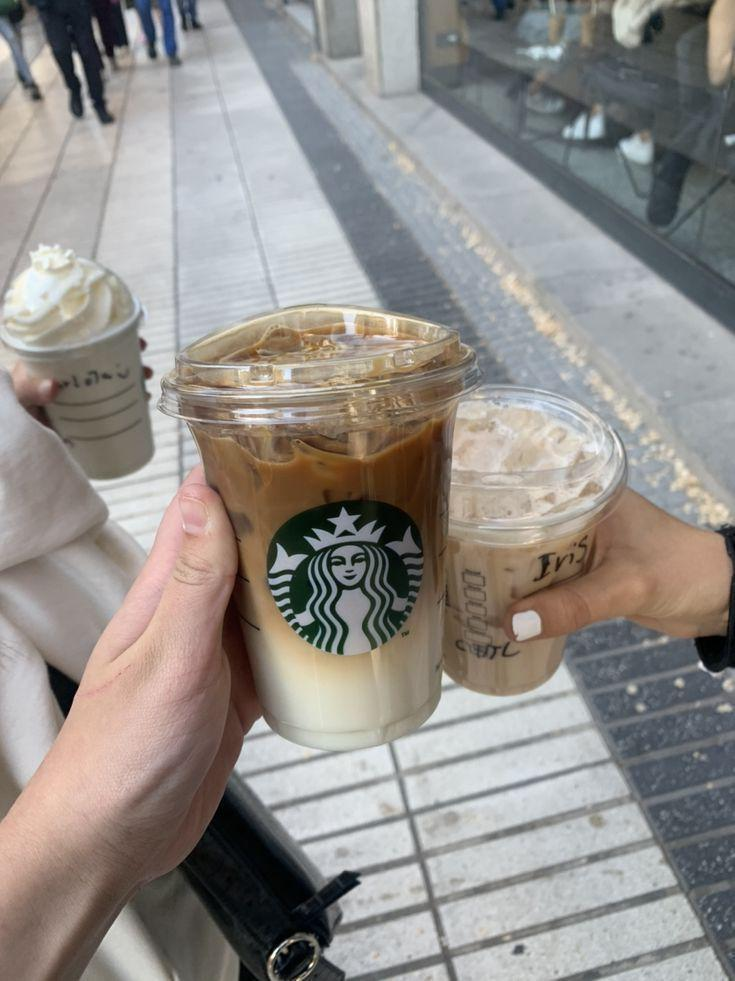cup-disposable: (156, 305, 472, 752), (440, 384, 629, 694), (2, 244, 155, 481)
